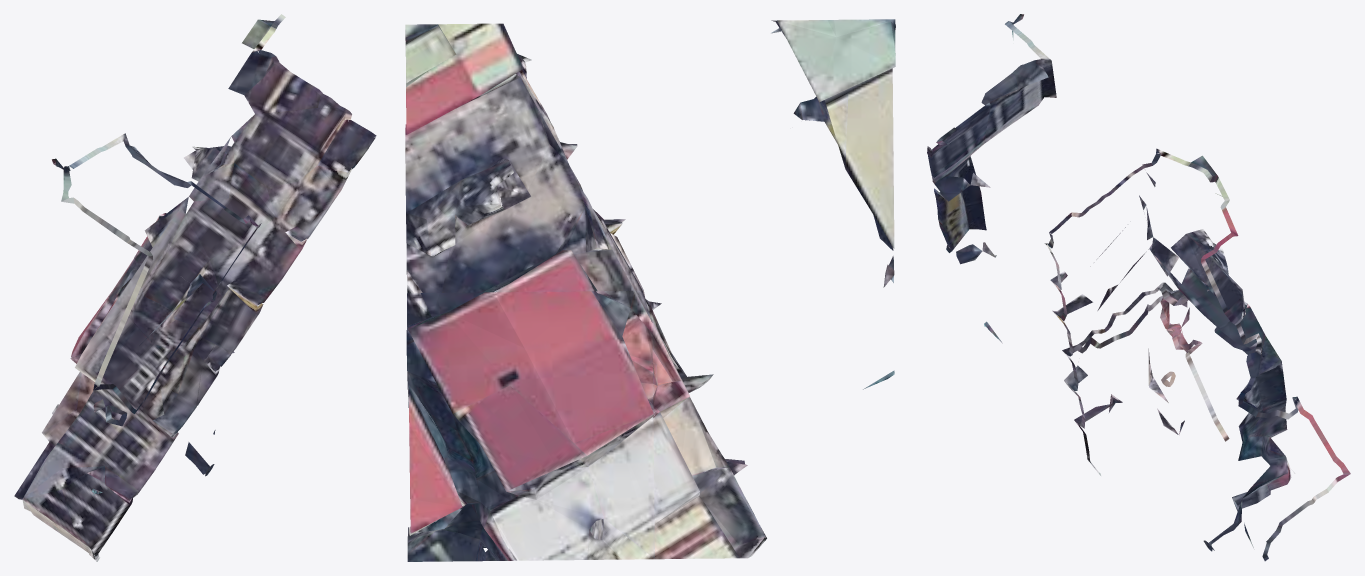
The picture shows the model from 3 angles, left to right: view 1: azimuth 30°, elevation 25°; view 2: azimuth 150°, elevation 25°; view 3: azimuth 270°, elevation 25°; orthographic projection. The views are drawn at different scales.
Bounding box in the file's own units: 31.92 × 41 × 37.08.
1 material, 1 textured.
